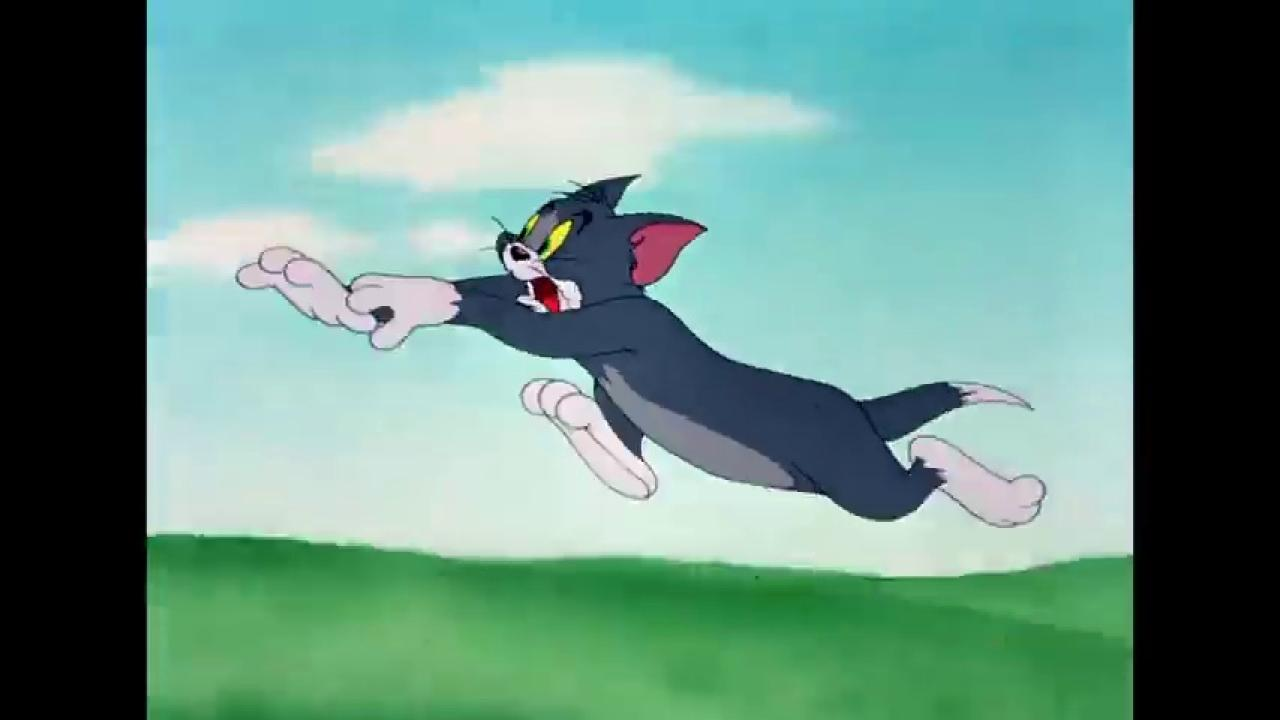Tom: (235, 172, 1047, 531)
